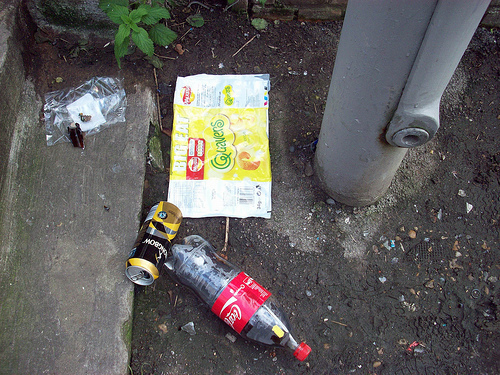litter: (166, 235, 312, 363), (171, 72, 274, 218), (41, 75, 128, 148), (126, 200, 182, 285)
